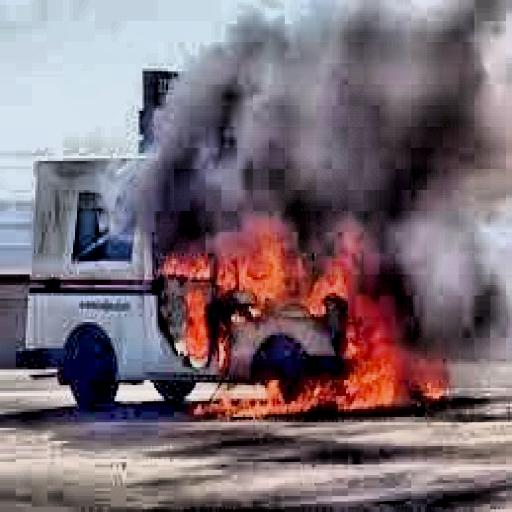fire: (148, 222, 455, 436)
